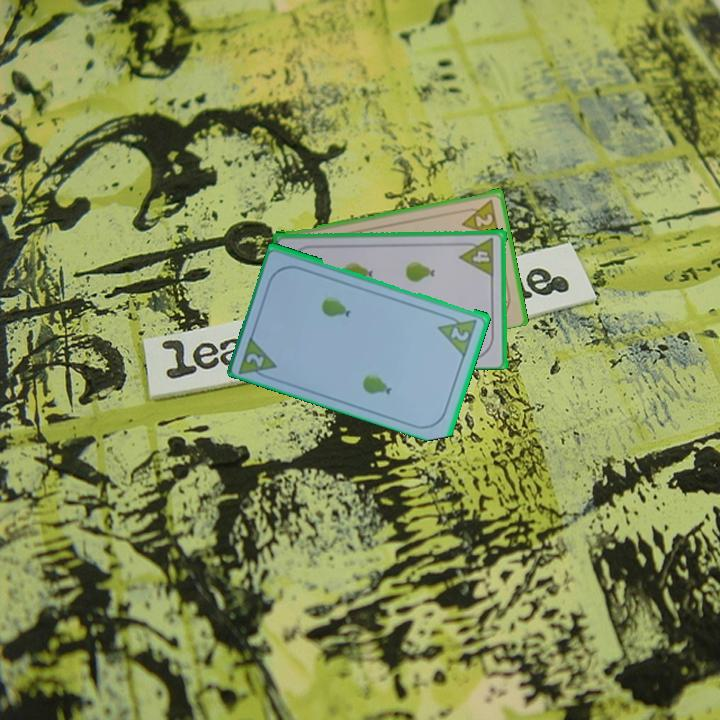2p: (457, 195, 502, 239), (447, 323, 472, 344), (243, 349, 267, 370)
4p: (458, 245, 494, 278)
